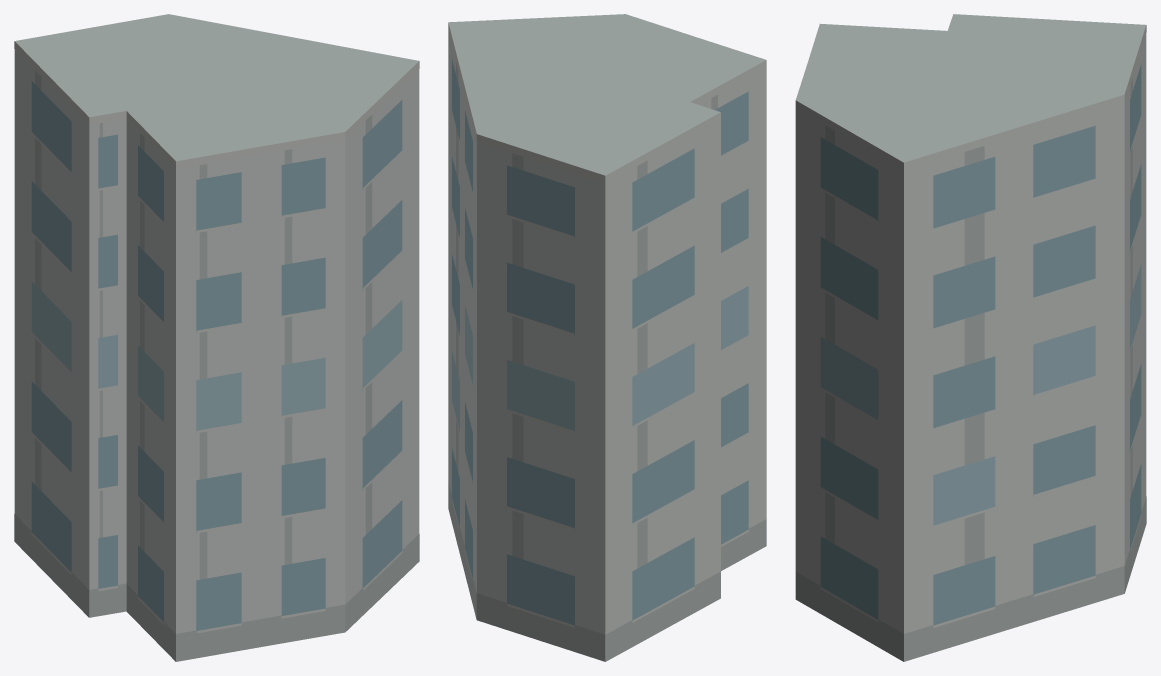
The model's file is residential-3a8c8772-90b6-4d74-94c9-472e4f83a962.glb.
3 renders of one model, left to right at view 1: azimuth 30°, elevation 25°; view 2: azimuth 150°, elevation 25°; view 3: azimuth 270°, elevation 25°, orthographic. The views are drawn at different scales.
Parts seen in each view (by area): view 1: residential-3a8c8772-90b6-4d74-94c9-472e4f83a962.tmp; view 2: residential-3a8c8772-90b6-4d74-94c9-472e4f83a962.tmp; view 3: residential-3a8c8772-90b6-4d74-94c9-472e4f83a962.tmp.
Boxes of the visible parts, x1,y1,x2,y2 form: residential-3a8c8772-90b6-4d74-94c9-472e4f83a962.tmp: (14,14,419,661); residential-3a8c8772-90b6-4d74-94c9-472e4f83a962.tmp: (448,14,766,661); residential-3a8c8772-90b6-4d74-94c9-472e4f83a962.tmp: (795,14,1146,661).
Size of the model in its own units: 9.75 by 15.25 by 9.72.
